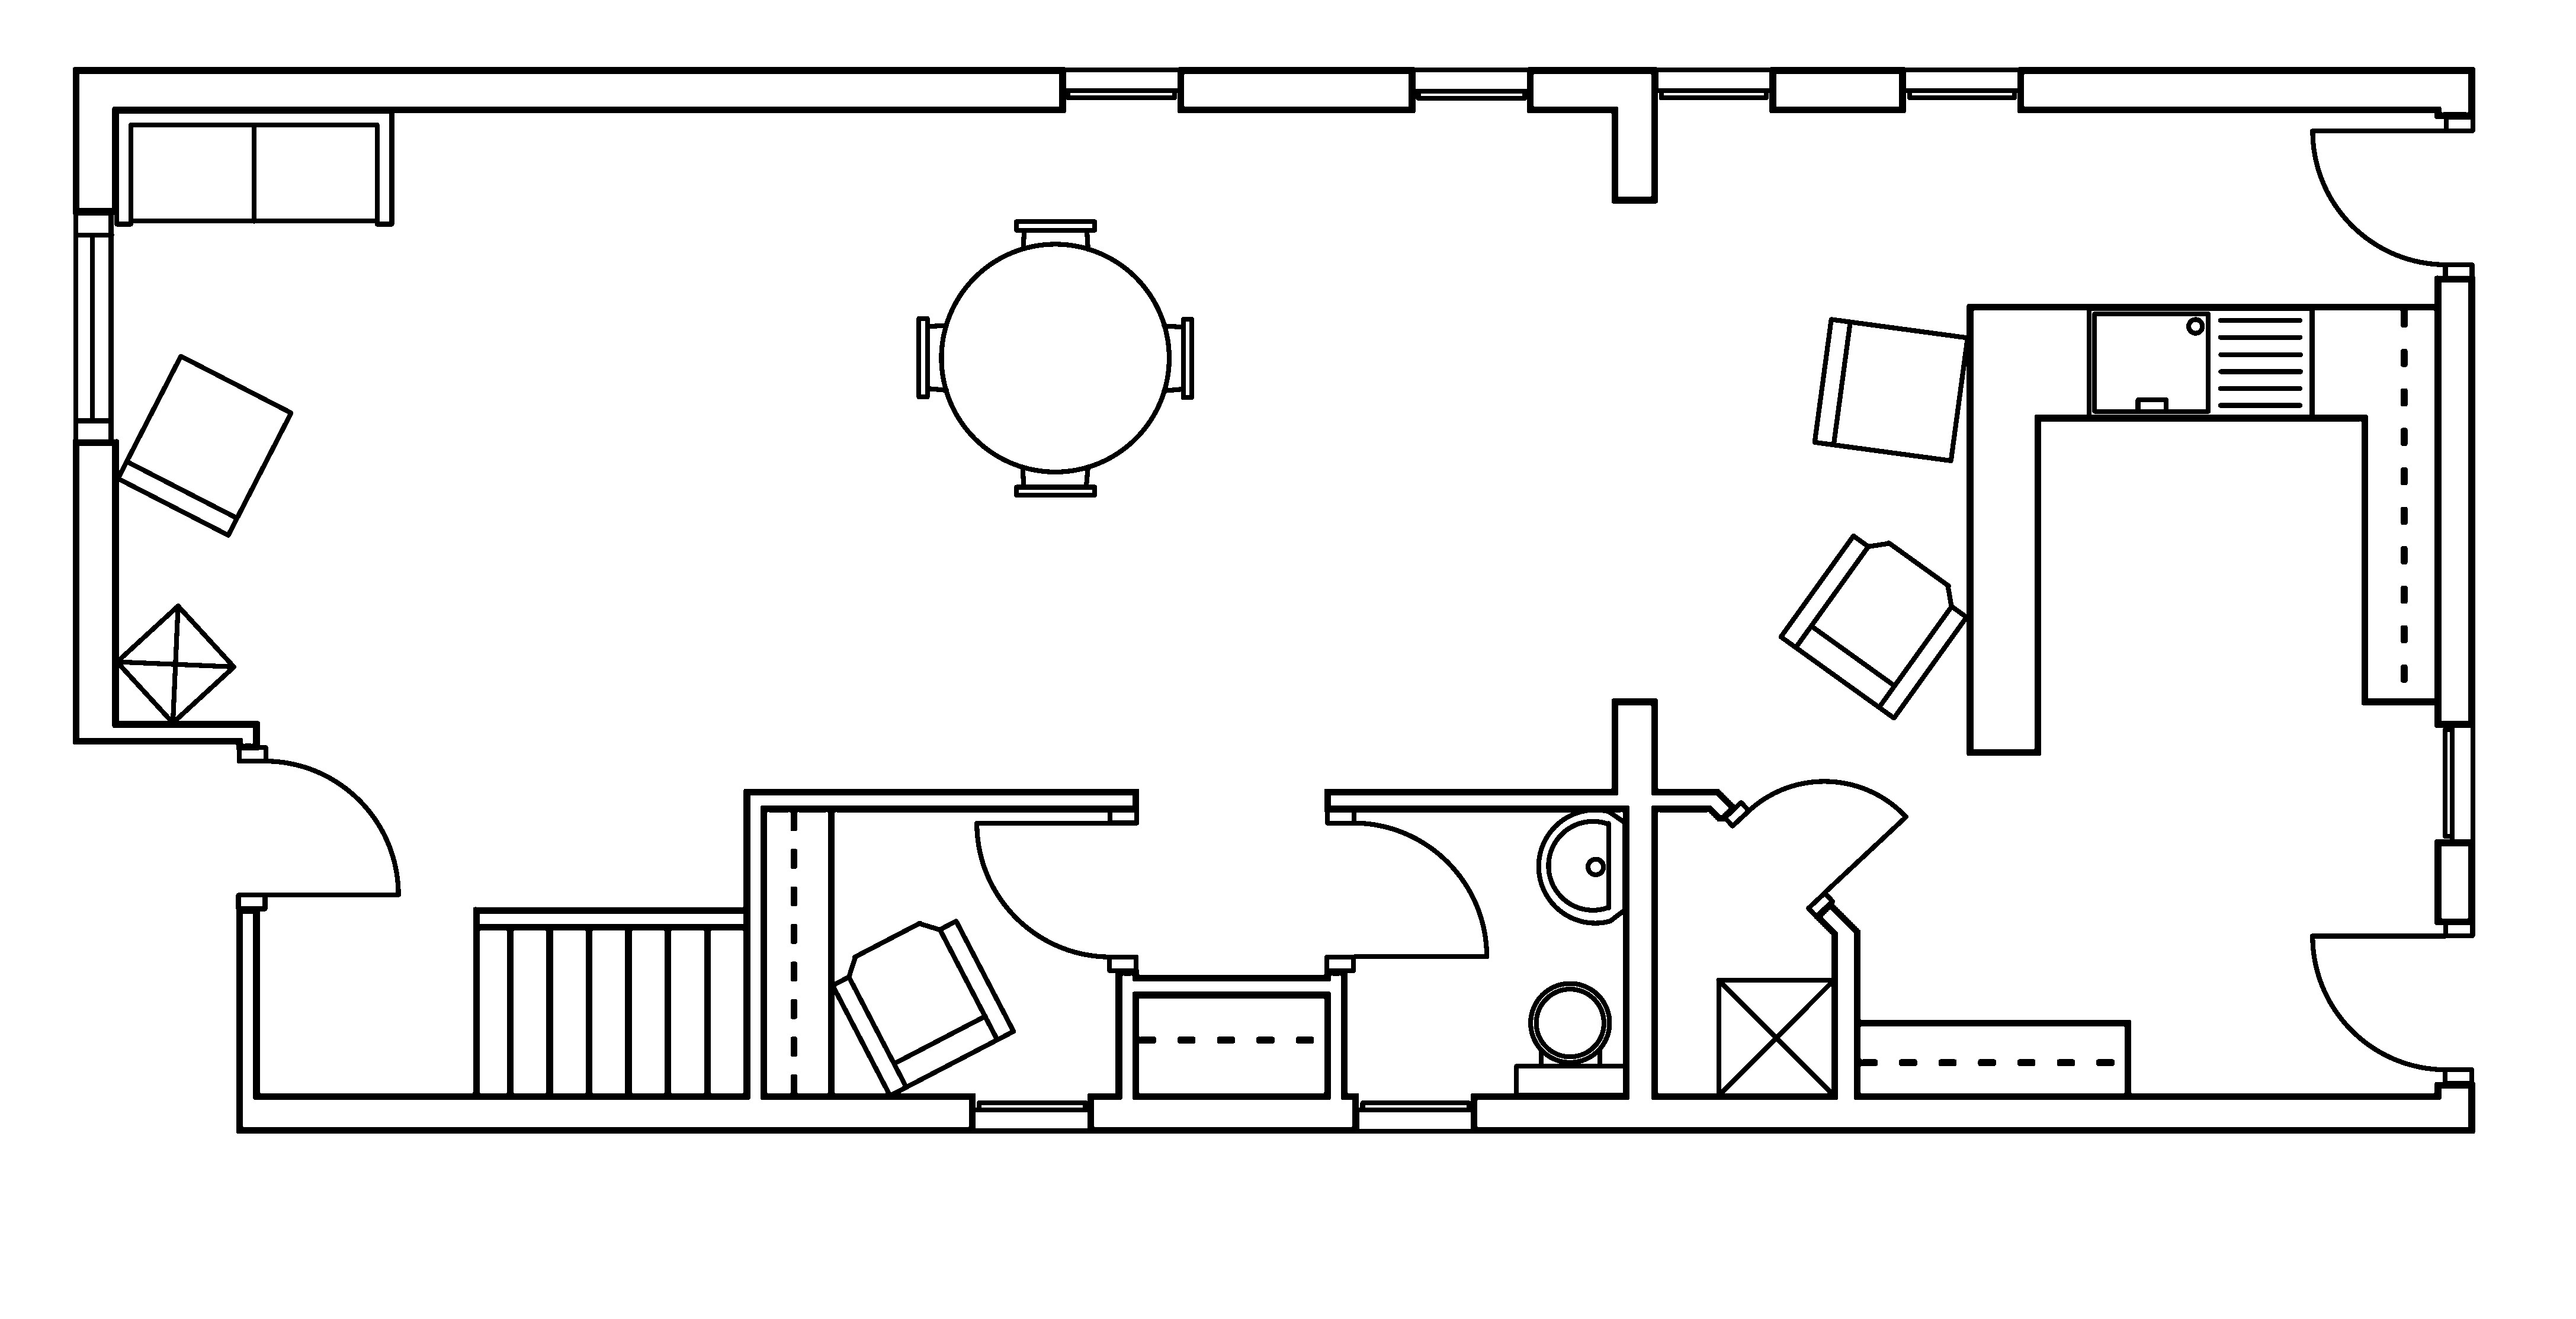armchair: (1777, 532, 1969, 720), (829, 917, 1016, 1099)
coffee_table: (113, 602, 237, 725), (1715, 976, 1836, 1099)
large_sink: (1513, 981, 1628, 1097)
large_sofa: (113, 108, 395, 227)
round_table: (915, 219, 1194, 498)
sink: (2085, 305, 2314, 421)
small_sink: (1535, 808, 1628, 925)
small_sofa: (114, 352, 294, 538), (1811, 316, 1971, 463)
